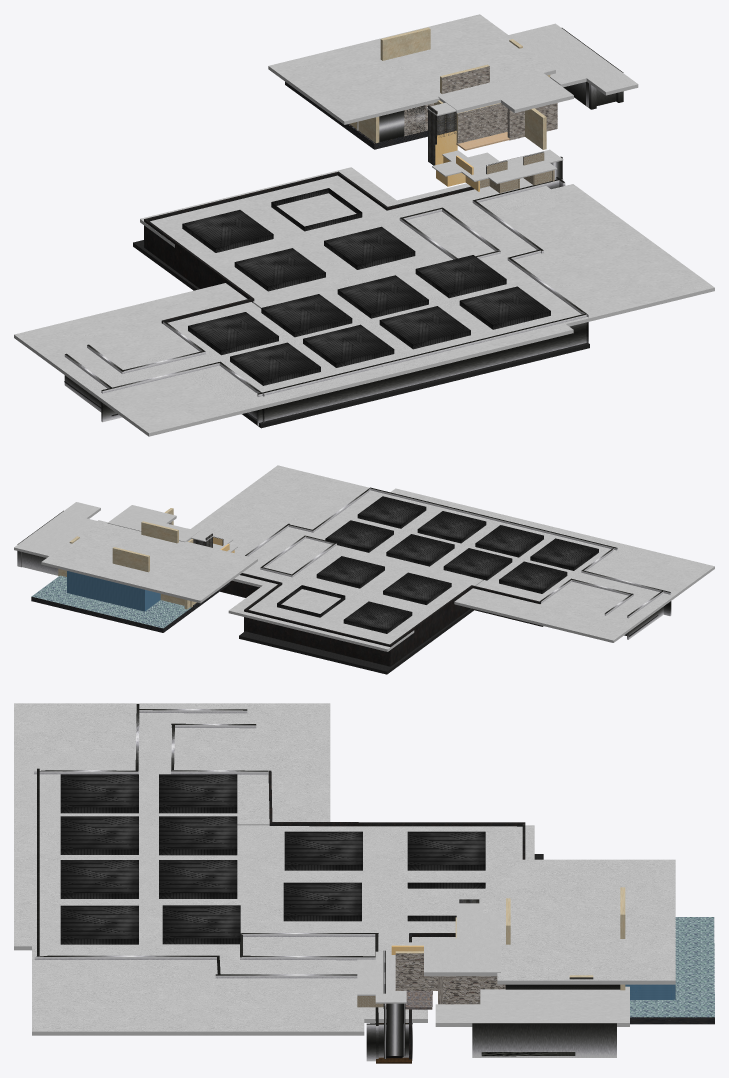
File: level2.FBX
3 renders of one model, top to bottom at view 1: azimuth 30°, elevation 25°; view 2: azimuth 150°, elevation 25°; view 3: azimuth 270°, elevation 25°, orthographic. The views are drawn at different scales.
Visible parts, largest first — view 1: sufit036, sufit044, sufit047, sufit043, sufit046, sufit039, Wall004, sufit045, sufit042, sufit048, Wall005, sufit040 (+33 smaller); view 2: sufit036, sufit039, sufit047, sufit043, sufit046, sufit044, Wall005, sufit040, Box582, sufit042, Wall004, Wall003 (+25 smaller); view 3: sufit036, sufit047, sufit043, sufit046, sufit044, sufit039, sufit040, sufit042, sufit045, sufit048, sufit041, Box582 (+34 smaller).
Boxes of the visible parts, bbox=[...] form: sufit036: bbox=[268, 14, 555, 124]; sufit044: bbox=[388, 184, 648, 288]; sufit047: bbox=[14, 283, 279, 390]; sufit043: bbox=[453, 239, 714, 339]; sufit046: bbox=[72, 327, 359, 436]; sufit039: bbox=[140, 167, 407, 273]; Wall004: bbox=[64, 257, 588, 425]; sufit045: bbox=[162, 309, 447, 415]; sufit042: bbox=[300, 281, 573, 384]; sufit048: bbox=[312, 178, 572, 270]; Wall005: bbox=[144, 171, 474, 323]; sufit040: bbox=[220, 211, 411, 308]; sufit036: bbox=[41, 520, 257, 603]; sufit039: bbox=[228, 570, 441, 651]; sufit047: bbox=[454, 561, 657, 642]; sufit043: bbox=[221, 465, 433, 545]; sufit046: bbox=[525, 528, 714, 610]; sufit044: bbox=[191, 502, 386, 581]; Wall005: bbox=[220, 573, 540, 666]; sufit040: bbox=[274, 542, 483, 615]; Box582: bbox=[31, 575, 229, 632]; sufit042: bbox=[353, 488, 554, 558]; Wall004: bbox=[312, 487, 671, 639]; Wall003: bbox=[67, 571, 160, 611]; sufit036: bbox=[497, 859, 675, 984]; sufit047: bbox=[151, 703, 330, 825]; sufit043: bbox=[32, 911, 210, 1035]; sufit046: bbox=[14, 703, 192, 824]; sufit044: bbox=[186, 913, 364, 1035]; sufit039: bbox=[356, 825, 534, 946]; sufit040: bbox=[219, 825, 397, 946]; sufit042: bbox=[14, 825, 190, 950]; sufit045: bbox=[14, 753, 192, 874]; sufit048: bbox=[249, 897, 427, 1022]; sufit041: bbox=[92, 825, 270, 946]; Box582: bbox=[630, 917, 714, 1024].
Size of the model in its own units: 22061 by 3897 by 17041.
Materials: 24 (22 with a texture image).
